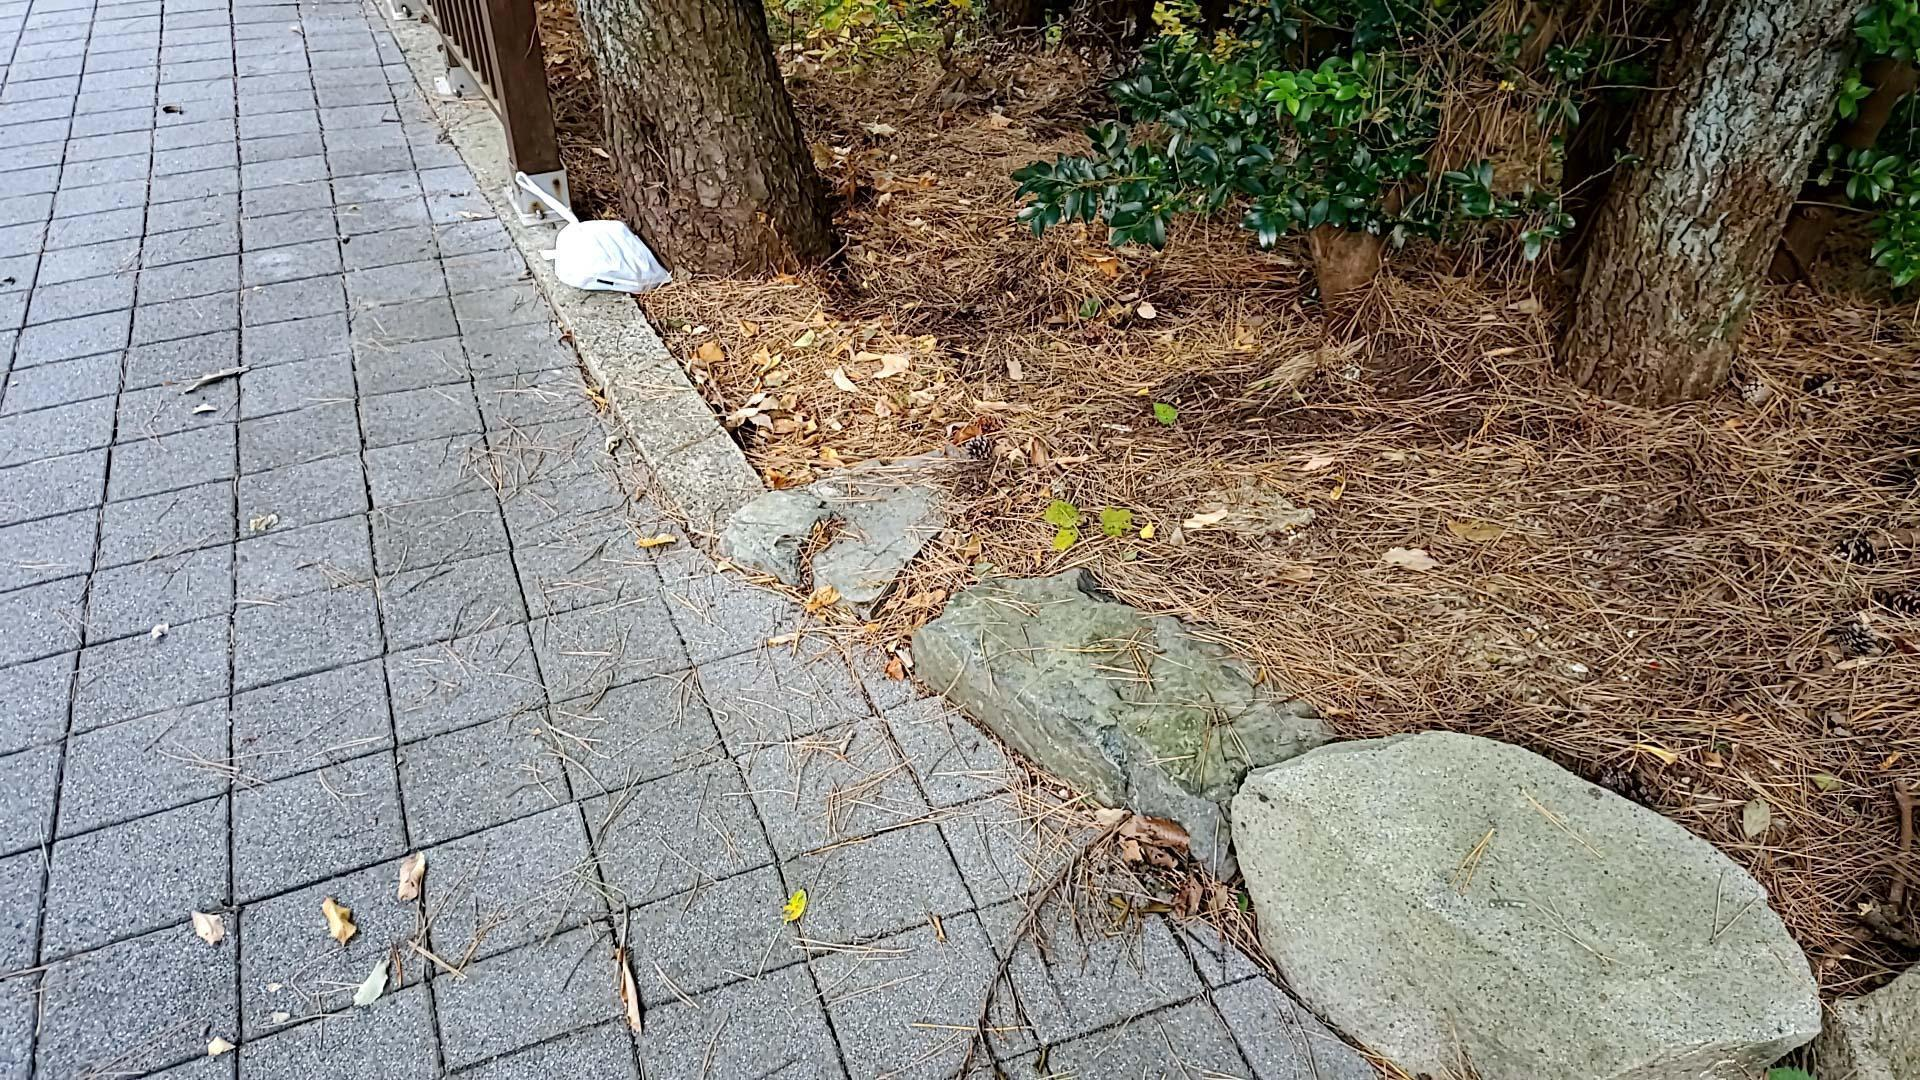white_bag: (506, 165, 678, 298)
